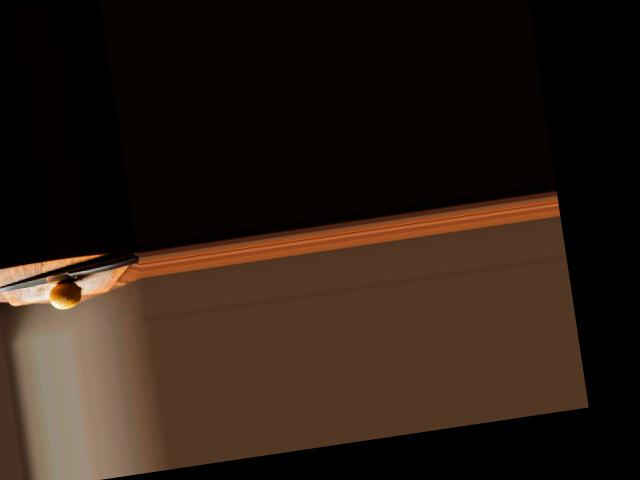lemon: (46, 279, 87, 313)
